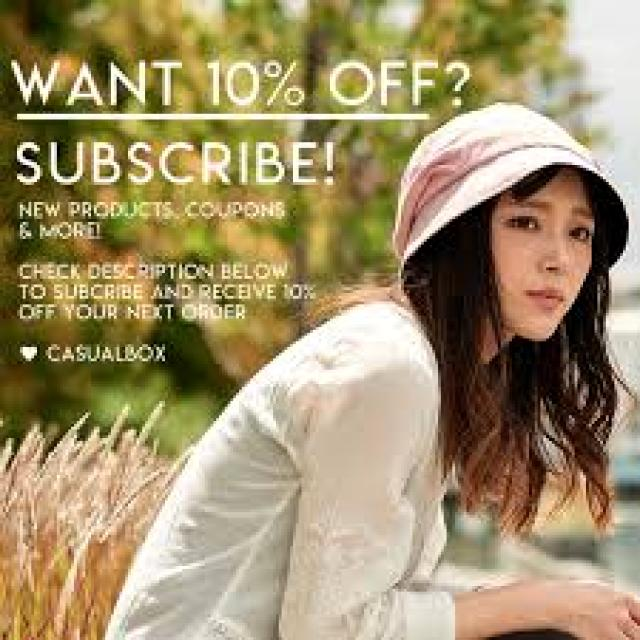hat: (393, 103, 628, 267)
